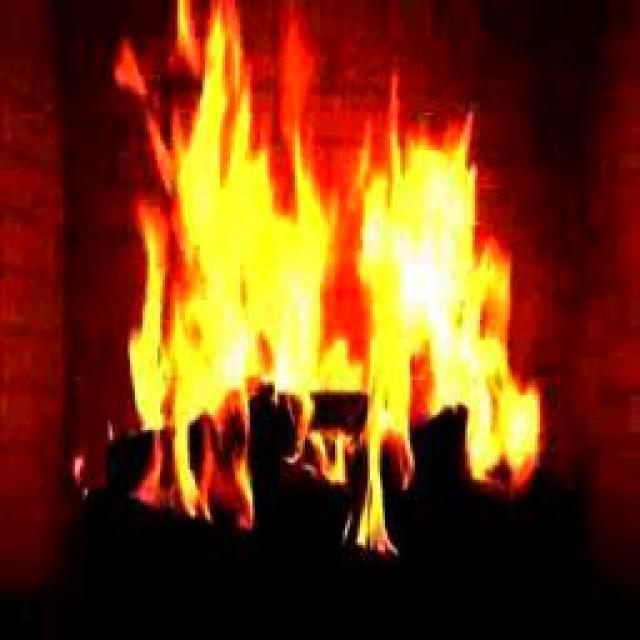Fire: (98, 39, 541, 474)
